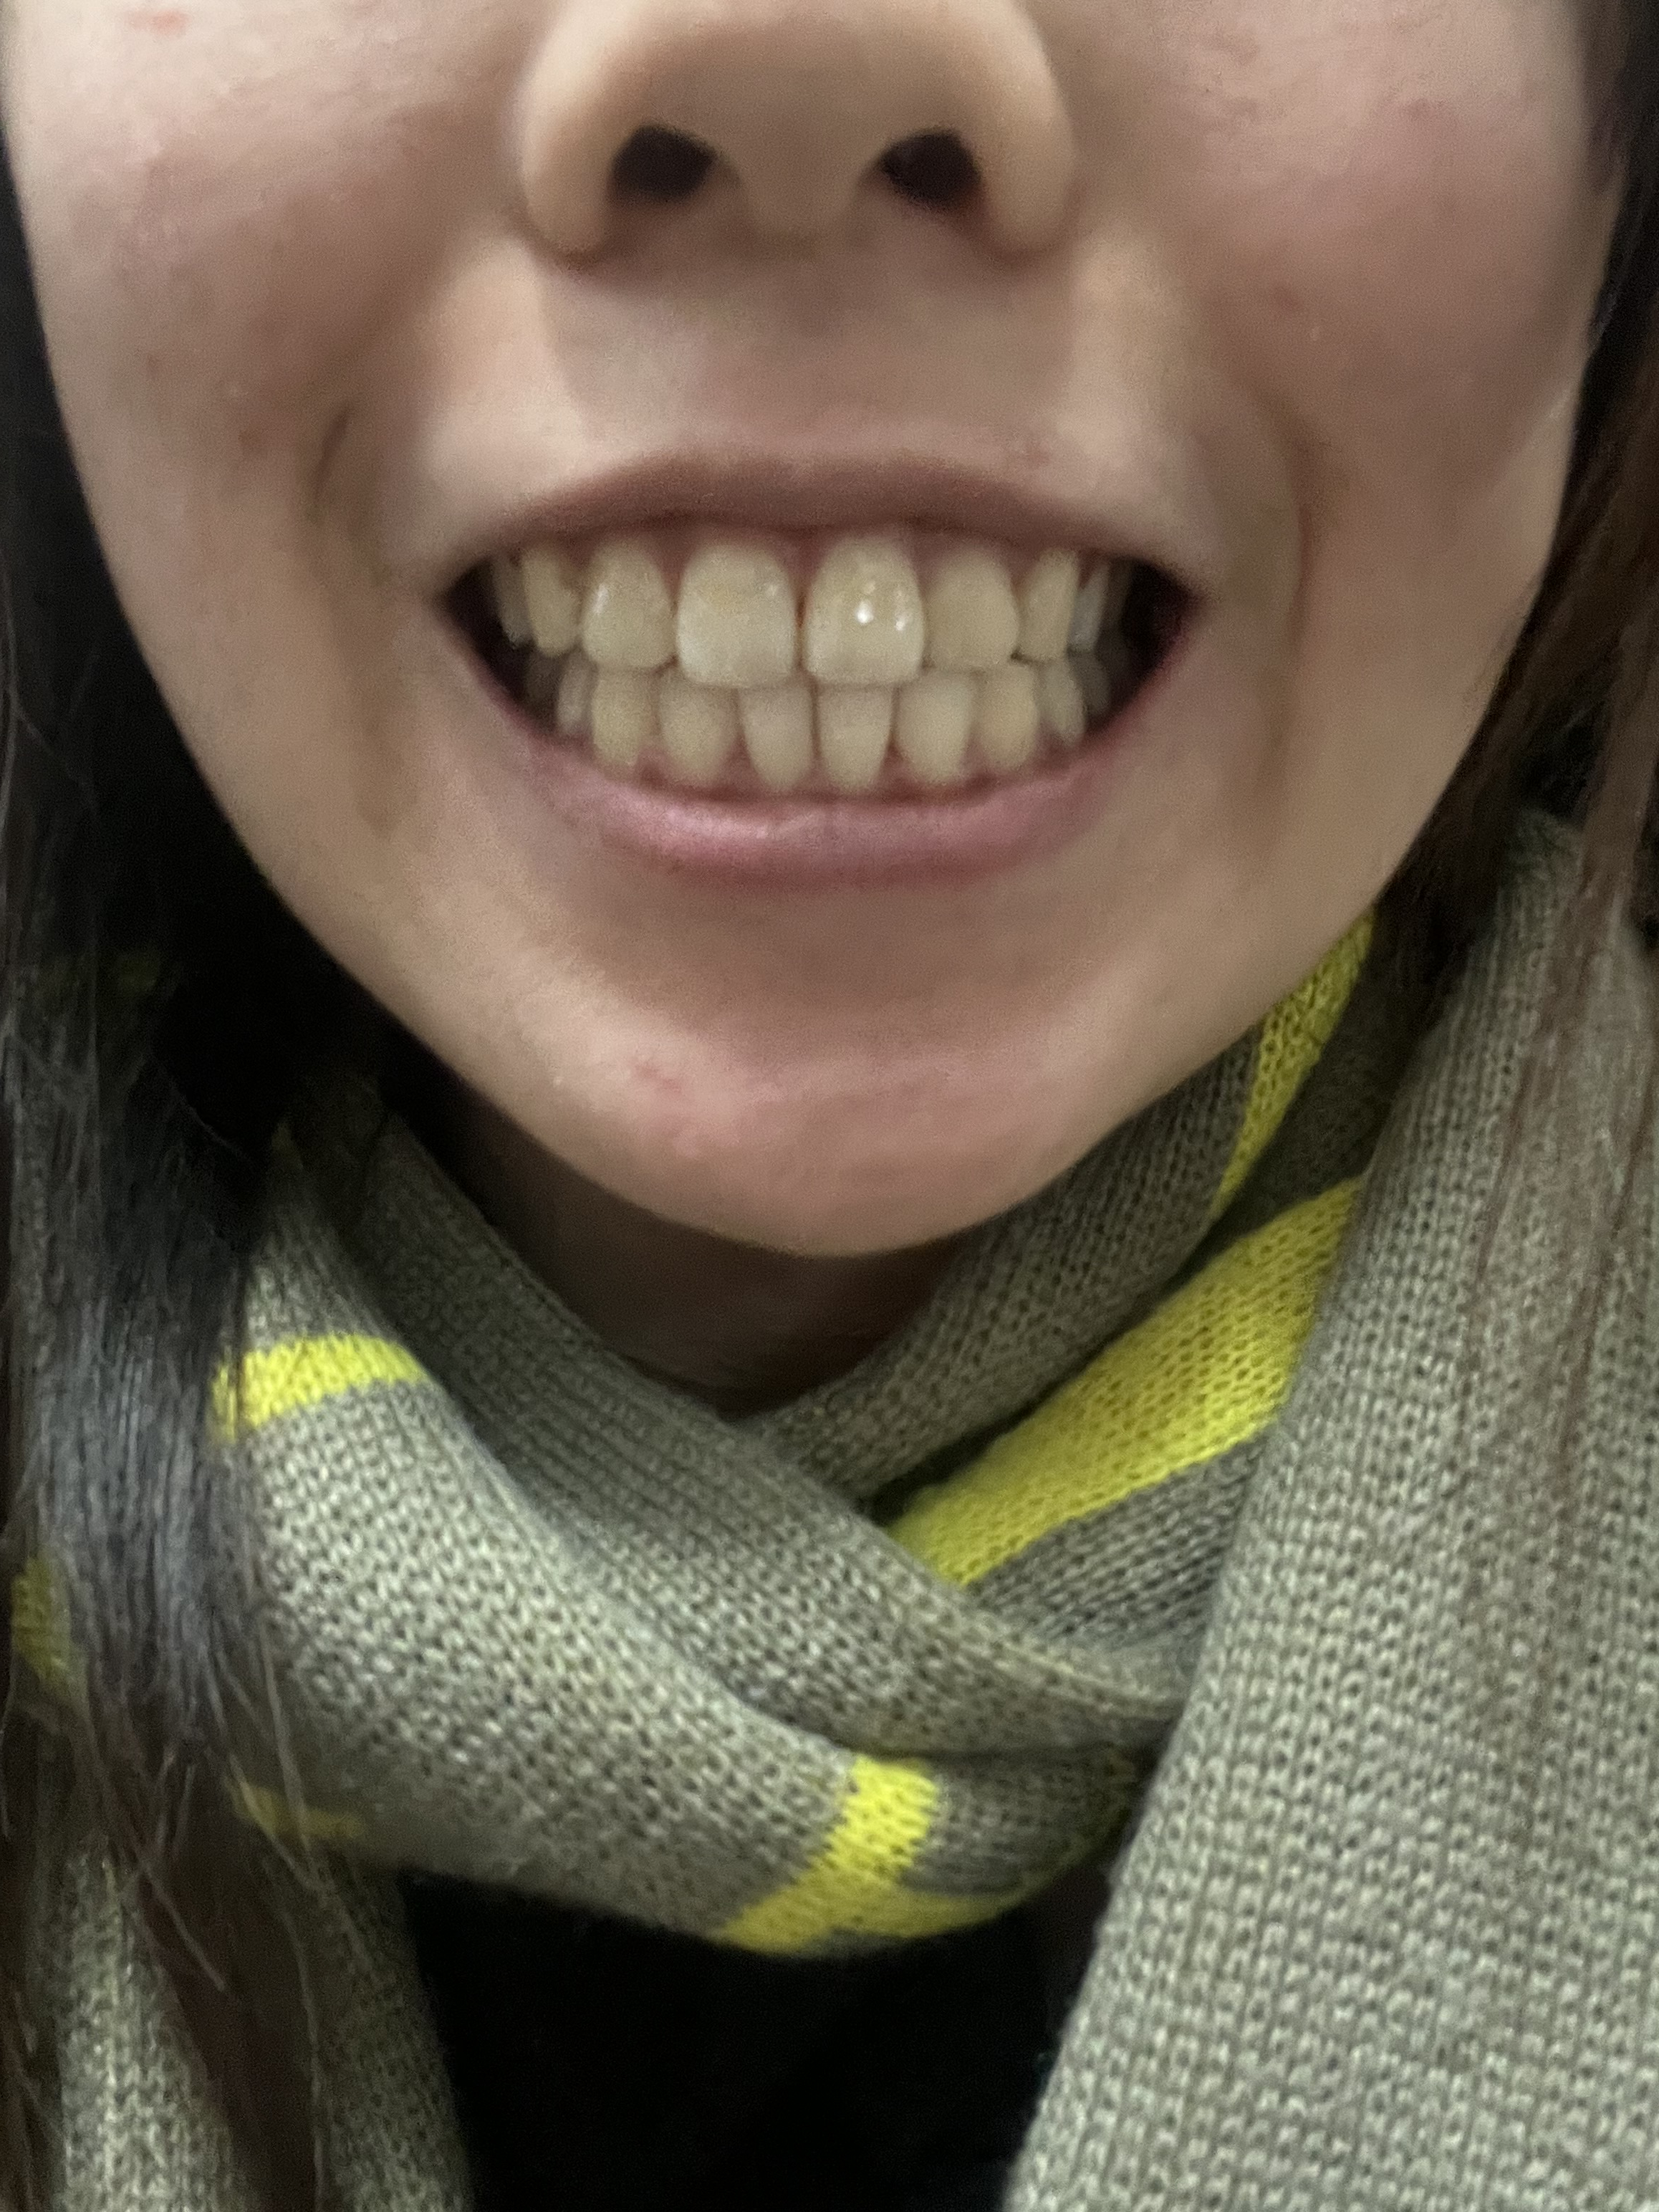teeth: (802, 538, 924, 683), (674, 549, 798, 686), (586, 540, 673, 671), (932, 542, 1019, 667), (659, 681, 741, 782), (897, 671, 976, 775), (821, 686, 892, 784), (744, 688, 814, 784), (1019, 556, 1080, 660), (978, 669, 1039, 772), (523, 543, 577, 655), (589, 671, 648, 763), (1037, 660, 1089, 751), (493, 563, 537, 650), (552, 655, 594, 737), (1079, 570, 1105, 651), (521, 655, 561, 707), (1082, 653, 1110, 718), (1105, 568, 1127, 625)
